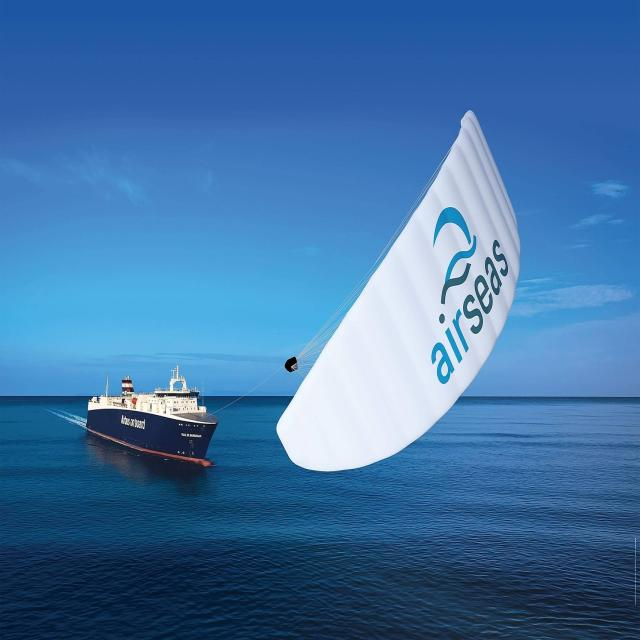boat: (77, 355, 229, 482)
